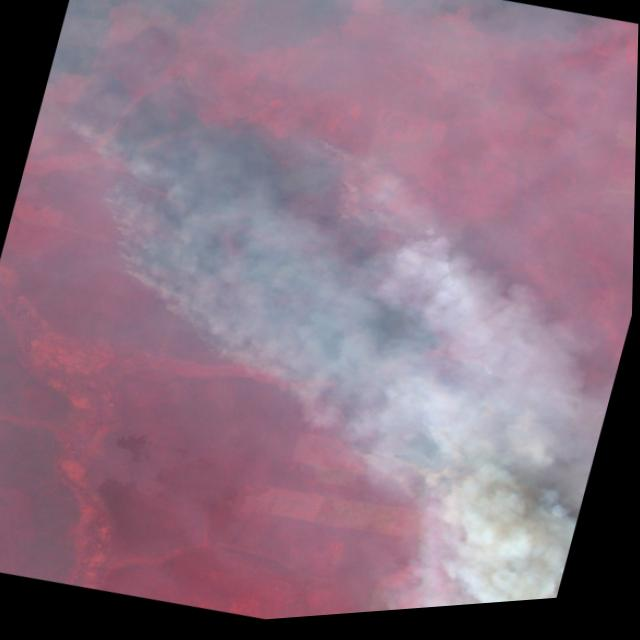fire: (14, 36, 444, 417), (341, 356, 510, 503)
